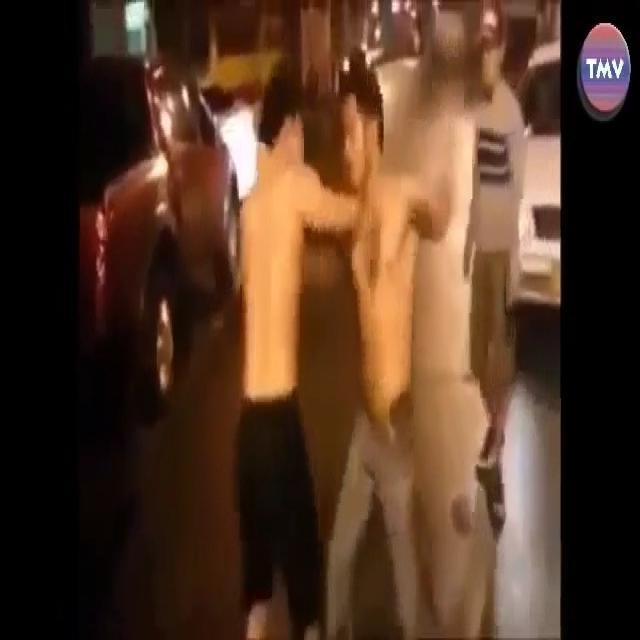non-violence: (464, 2, 532, 547)
violence: (239, 59, 449, 640)
